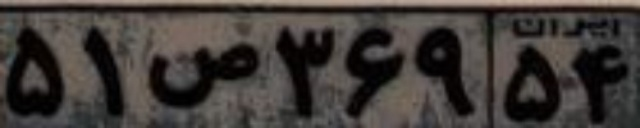1: (83, 26, 125, 116)
3: (274, 26, 334, 117)
4: (570, 45, 627, 123)
5: (4, 26, 63, 118), (505, 45, 559, 122)
6: (345, 27, 405, 119)
9: (415, 26, 475, 117)
saat: (141, 41, 259, 109)
